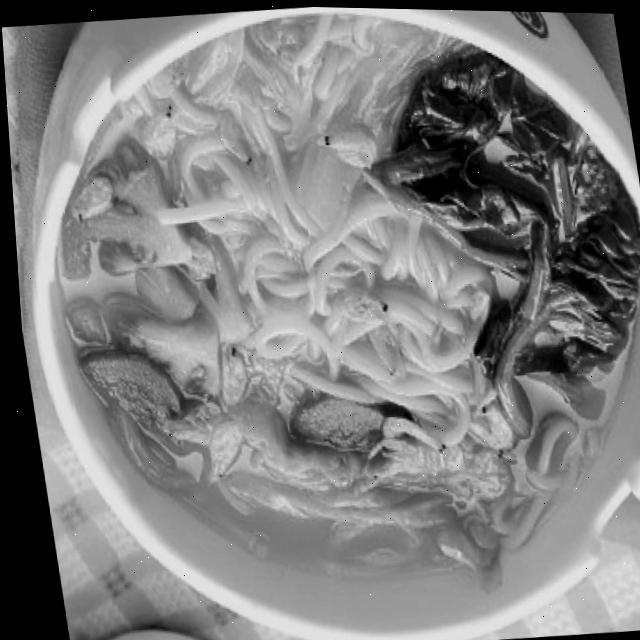面条主食: (49, 1, 640, 568)
